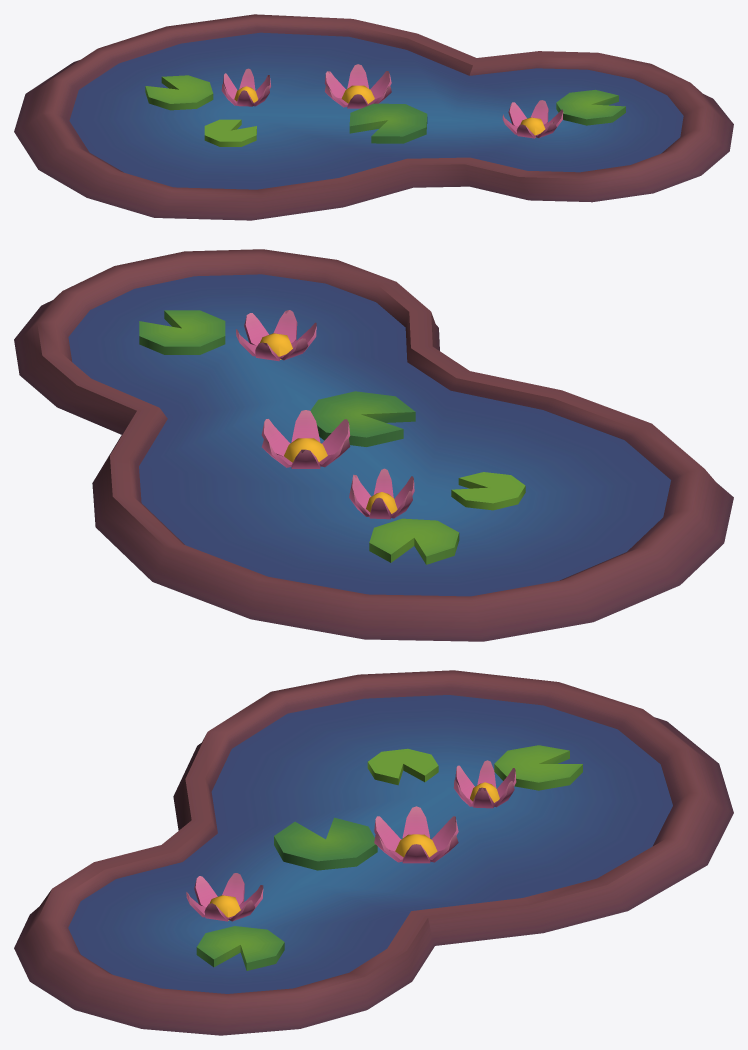
The model's file is pool.fbx.
3 views of the same model, one above another, from view 1: azimuth 30°, elevation 25°; view 2: azimuth 150°, elevation 25°; view 3: azimuth 270°, elevation 25° (orthographic). The views are drawn at different scales.
Parts seen in each view (by area): view 1: Pond; view 2: Pond; view 3: Pond.
Part boxes in pixels (x1=…): Pond: x1=14, y1=14, x2=733, y2=220; Pond: x1=14, y1=249, x2=733, y2=641; Pond: x1=14, y1=670, x2=733, y2=1035.
Size of the model in its own units: 431 by 22.29 by 368.
